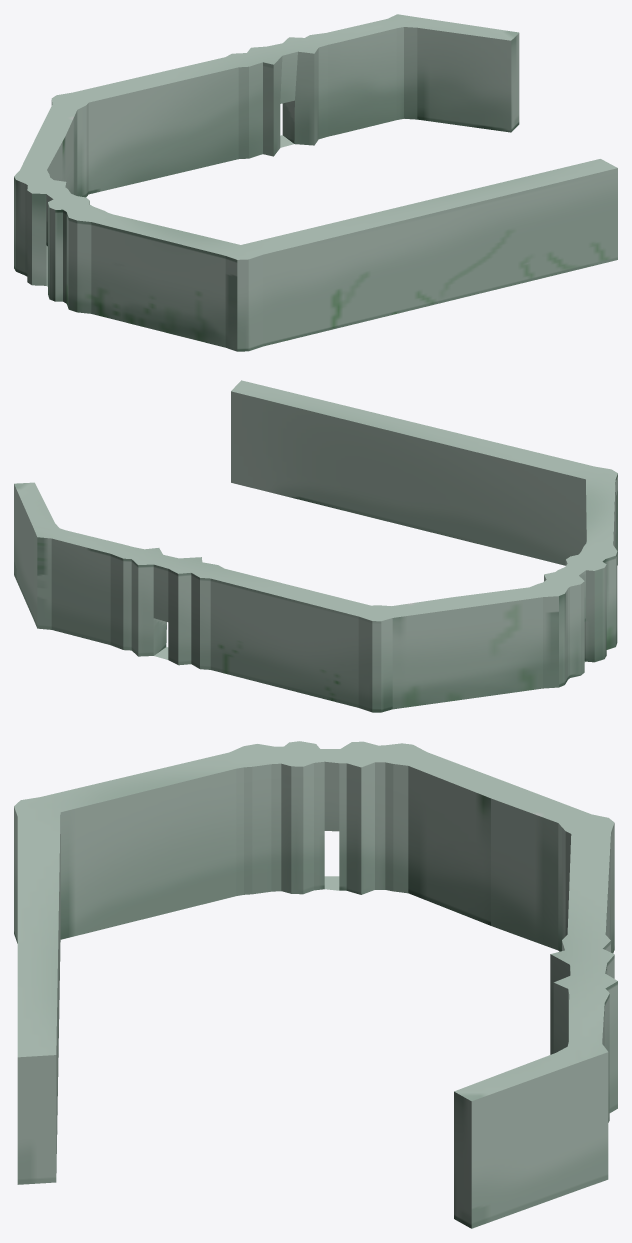
The model's file is pagar.fbx.
The picture shows the model from 3 angles, top to bottom: view 1: azimuth 30°, elevation 25°; view 2: azimuth 150°, elevation 25°; view 3: azimuth 270°, elevation 25°; orthographic projection. The views are drawn at different scales.
Parts seen in each view (by area): view 1: tembok; view 2: tembok; view 3: tembok.
Part boxes in pixels (x1,y1,x2,y2): tembok: (14, 14, 617, 351); tembok: (14, 380, 617, 712); tembok: (14, 741, 617, 1228).
Size of the model in its own units: 6.14 by 1.01 by 4.35.
